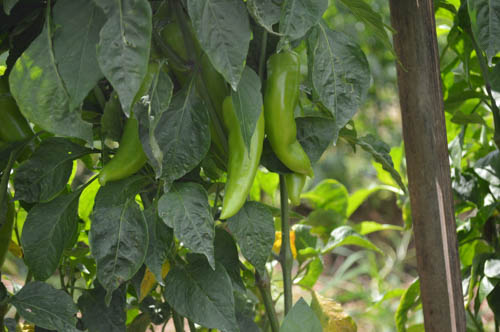ChiliPepper: (95, 69, 169, 201), (264, 52, 314, 176), (217, 97, 262, 228)
